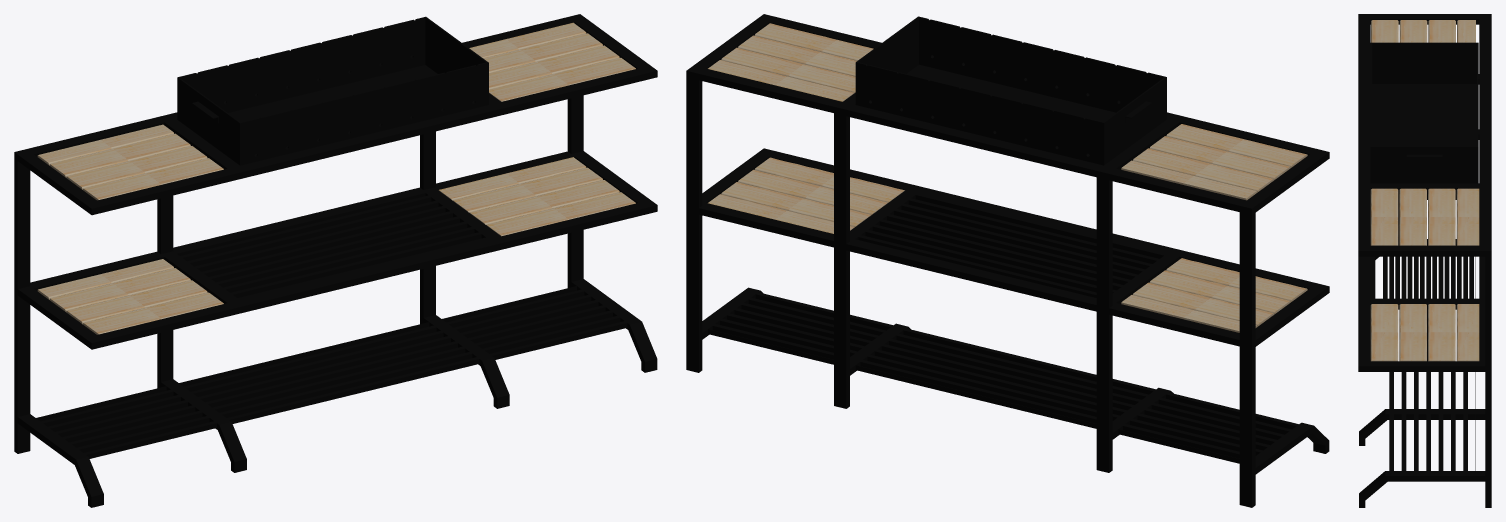
3 renders of one model, left to right at view 1: azimuth 30°, elevation 25°; view 2: azimuth 150°, elevation 25°; view 3: azimuth 270°, elevation 25°, orthographic. The views are drawn at different scales.
Visible parts, largest first — view 1: geometry-lumionModel, geometry-lumionModel.001; view 2: geometry-lumionModel, geometry-lumionModel.001; view 3: geometry-lumionModel, geometry-lumionModel.001.
Part boxes in pixels (box(x1,y1,x2,y2)): geometry-lumionModel: box(14, 14, 657, 507); geometry-lumionModel.001: box(37, 22, 635, 334); geometry-lumionModel: box(686, 14, 1329, 507); geometry-lumionModel.001: box(708, 23, 1307, 332); geometry-lumionModel: box(1358, 14, 1491, 507); geometry-lumionModel.001: box(1370, 20, 1479, 361).
Size of the model in its own units: 1.82 by 1.05 by 0.432.
Materials: 2 (2 with a texture image).
